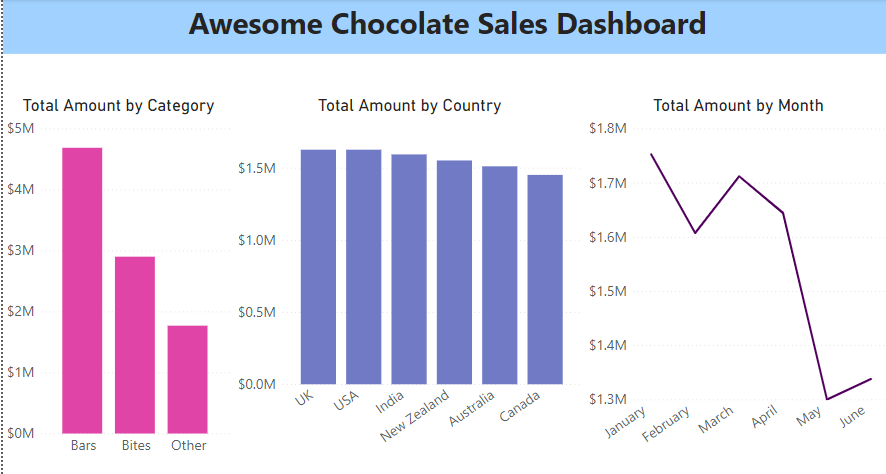

Layout of this report page (visuals, bound fields, positions):
{"tool":"powerbi","page":{"name":"Play","canvas":[1280,720],"ordinal":2},"visuals":[{"type":"columnChart","title":"Total Amount by Country","fields":{"Category":["locations.Geo"],"Y":["key Measures.Total Amount"]},"box":[332.6,139.4,505.6,527.5],"z":0},{"type":"columnChart","fields":{"Y":["key Measures.Total Amount"],"Category":["products.Category"]},"box":[0,139.4,332.6,527.5],"z":1000},{"type":"lineChart","fields":{"Y":["key Measures.Total Amount"],"Category":["sales.Date.Variation.Date Hierarchy.Year","sales.Date.Variation.Date Hierarchy.Quarter","sales.Date.Variation.Date Hierarchy.Month","sales.Date.Variation.Date Hierarchy.Day"]},"box":[838.2,139.4,441.8,527.5],"z":2000},{"type":"textbox","box":[0,0,1280,79],"z":3000}]}

Visuals, with their boxes on the page's 1280x720 design canvas (x1, y1, x2, y2). These are canvas units, not pixel positions in the 886x474 screenshot, which may show the page scaled, cropped or inside an application window:
"Total Amount by Country" columnChart: BBox(333, 139, 838, 667)
columnChart - key Measures.Total Amount x products.Category: BBox(0, 139, 333, 667)
lineChart - key Measures.Total Amount x sales.Date.Variation.Date Hierarchy.Year: BBox(838, 139, 1280, 667)
textbox: BBox(0, 0, 1280, 79)
